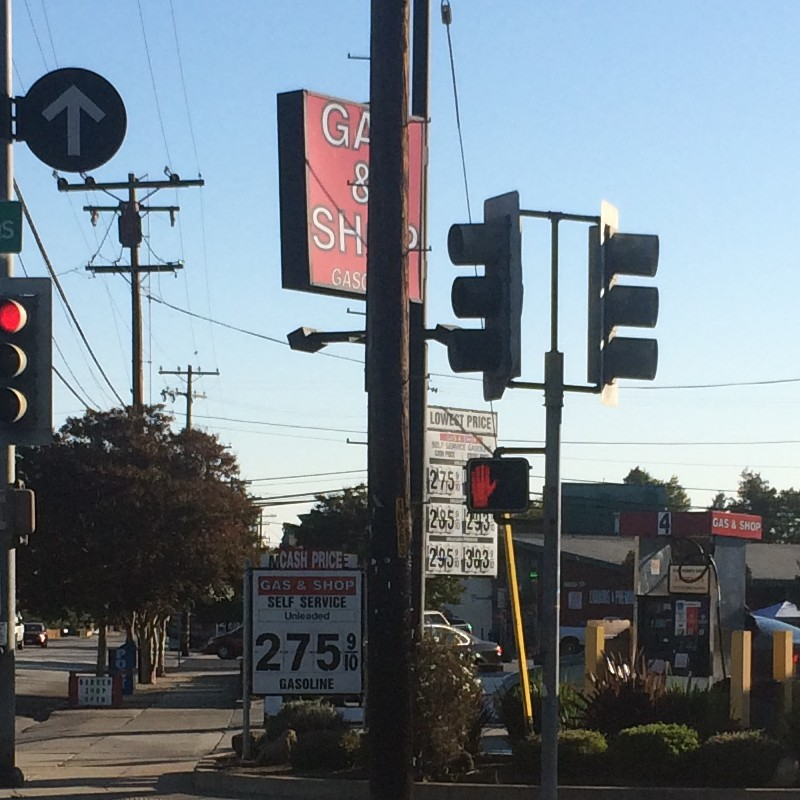stop: (459, 457, 531, 518)
